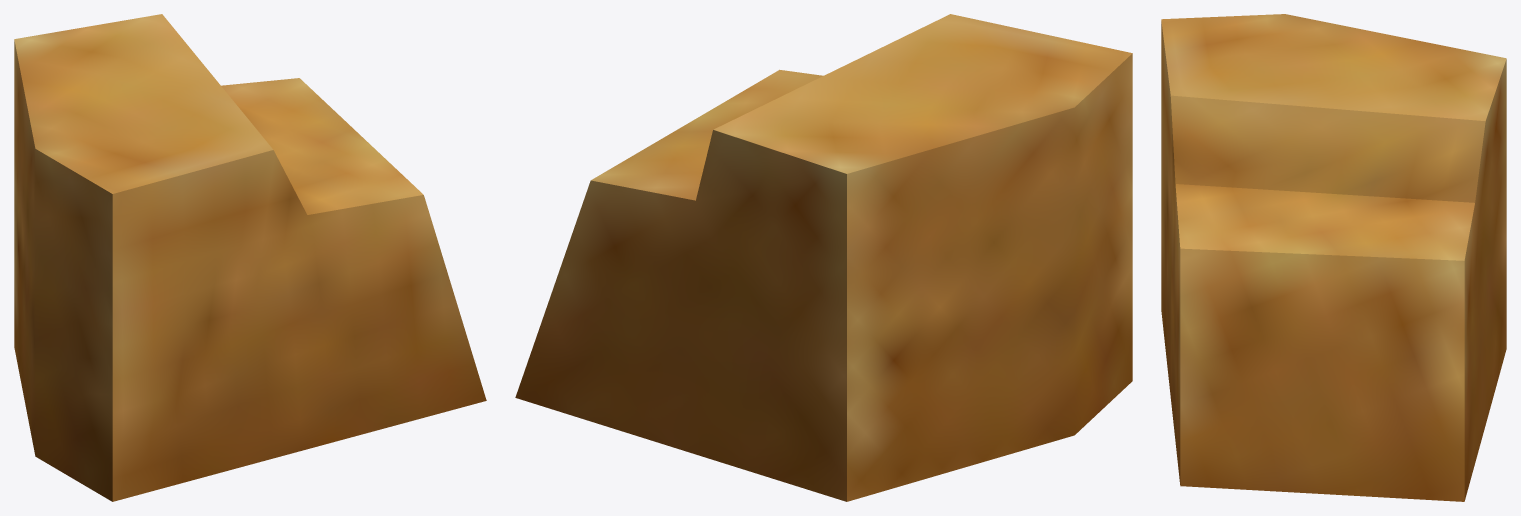
File: Stage_ShaMo_XiaoShiKuai06.FBX
The picture shows the model from 3 angles, left to right: view 1: azimuth 30°, elevation 25°; view 2: azimuth 150°, elevation 25°; view 3: azimuth 270°, elevation 25°; orthographic projection. The views are drawn at different scales.
Visible parts, largest first — view 1: Stage_ShaMo_XiaoShiKuai06; view 2: Stage_ShaMo_XiaoShiKuai06; view 3: Stage_ShaMo_XiaoShiKuai06.
Part boxes in pixels (bbox=[...]): Stage_ShaMo_XiaoShiKuai06: bbox=[14, 14, 486, 501]; Stage_ShaMo_XiaoShiKuai06: bbox=[515, 14, 1132, 501]; Stage_ShaMo_XiaoShiKuai06: bbox=[1161, 14, 1506, 501].
Bounding box in the file's own units: 49.55 × 33.9 × 36.58.
